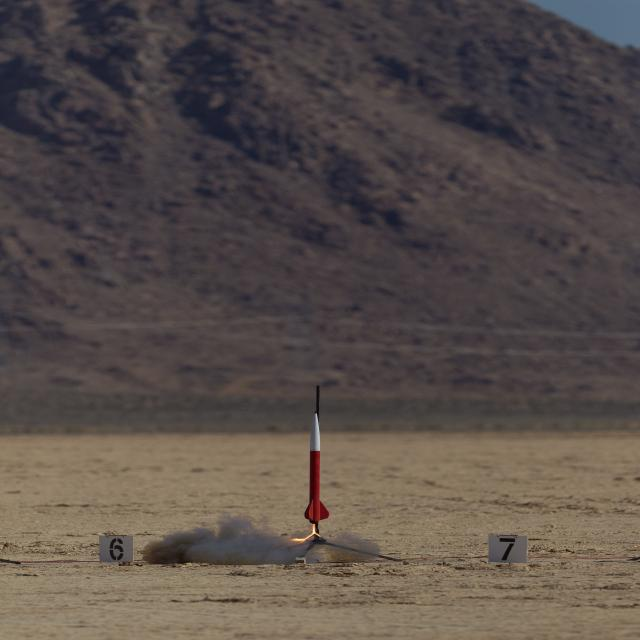Rocket: (304, 410, 329, 524)
